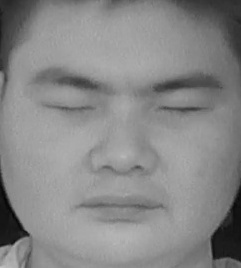blink: (49, 90, 97, 123), (162, 93, 207, 127)
mouth: (74, 182, 164, 230)
